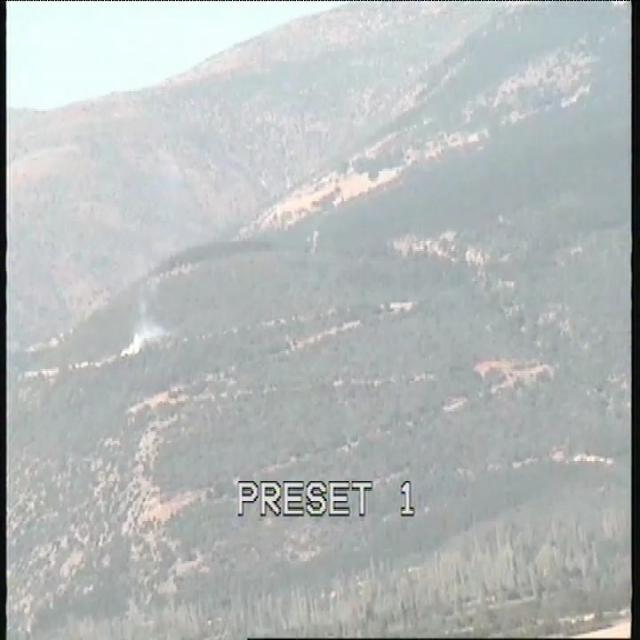smoke: (116, 317, 170, 364)
